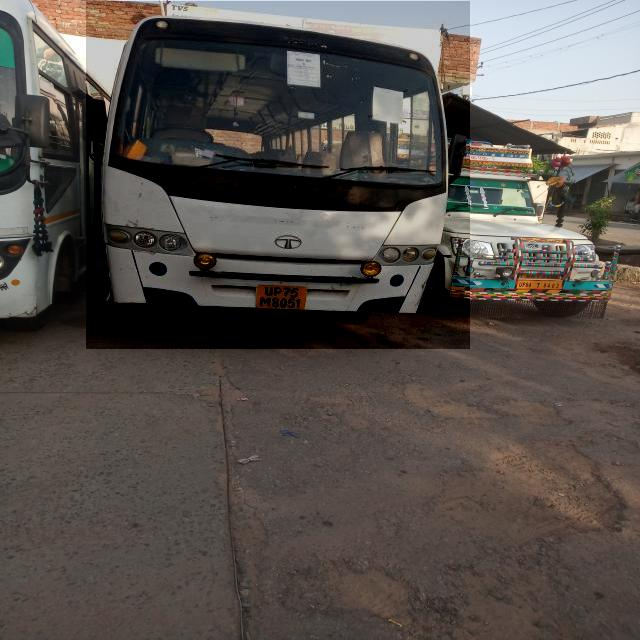Bus: (86, 2, 470, 350)
